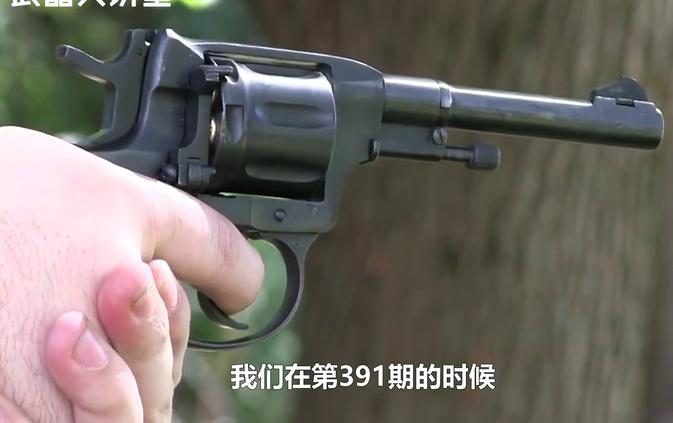gun: (1, 0, 673, 423)
